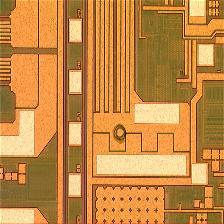PARTICLE: (108, 123, 132, 145)
